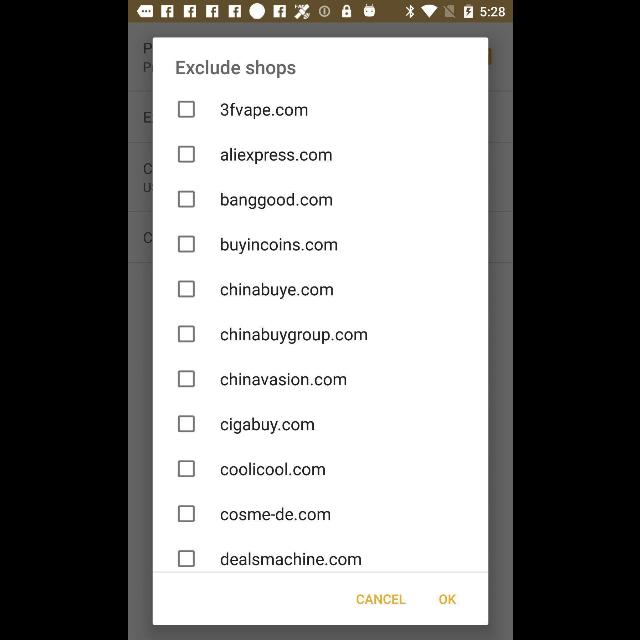checkbox: (176, 100, 194, 118), (176, 190, 194, 208), (176, 280, 194, 298), (176, 370, 194, 388), (176, 460, 194, 478), (176, 550, 194, 568), (176, 235, 194, 252), (176, 146, 194, 162), (176, 326, 194, 342), (176, 416, 194, 432), (176, 506, 194, 522)
panel: (152, 38, 488, 624)
text: (176, 60, 294, 78), (220, 192, 332, 210), (220, 282, 332, 300), (220, 238, 336, 255), (220, 552, 360, 566), (220, 328, 332, 344), (220, 372, 346, 386), (220, 148, 330, 164), (220, 102, 306, 120), (220, 418, 314, 434), (220, 462, 324, 476), (220, 508, 330, 520), (356, 594, 406, 604), (438, 594, 456, 604)
textbutton: (356, 594, 406, 604)
uppertaskbar: (128, 1, 512, 23)
